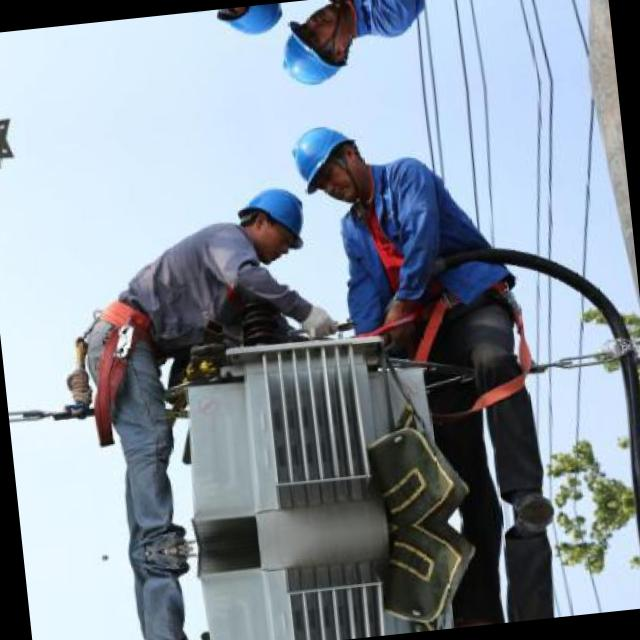helmet: (279, 112, 374, 213), (267, 0, 362, 97), (225, 172, 316, 262), (208, 1, 296, 52)
